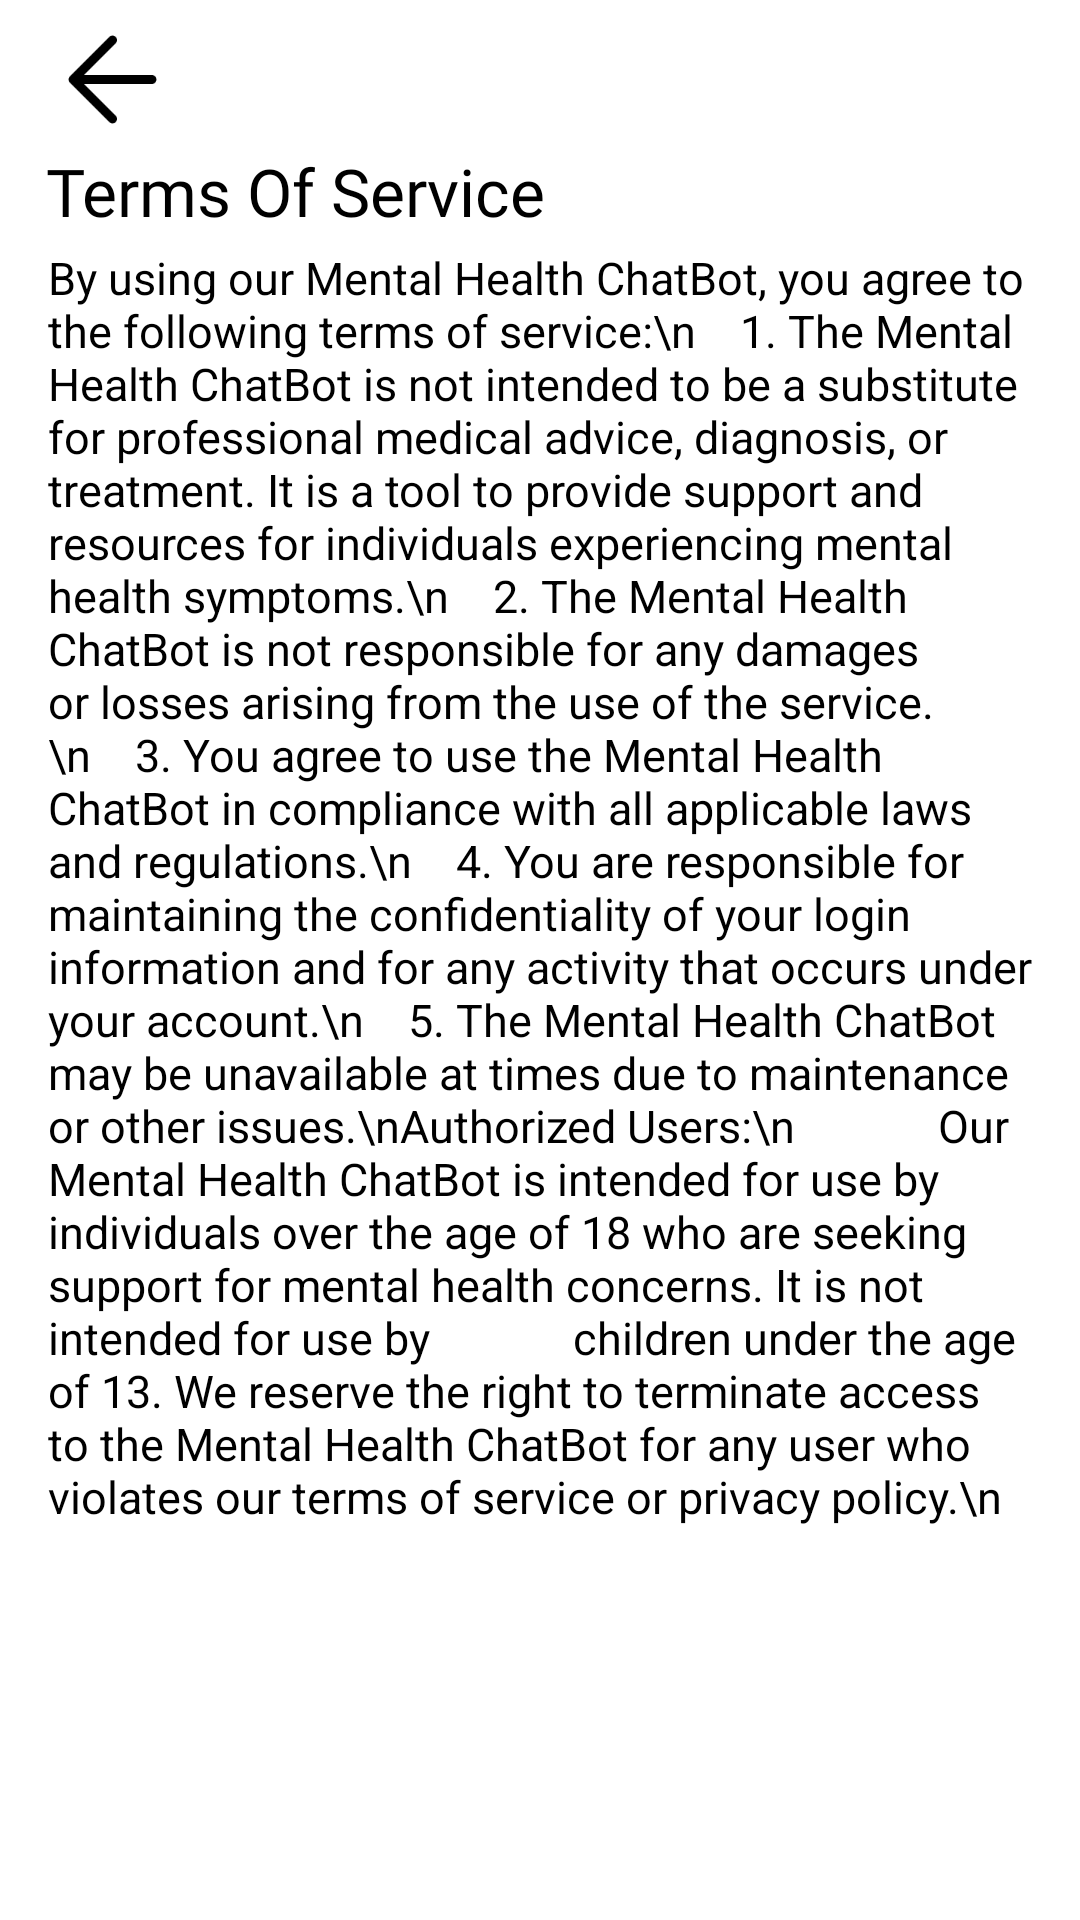

Where to tap for icons on this 1080 × 1920 app screen, as (x=x, y=y):
back: (x=112, y=79)
